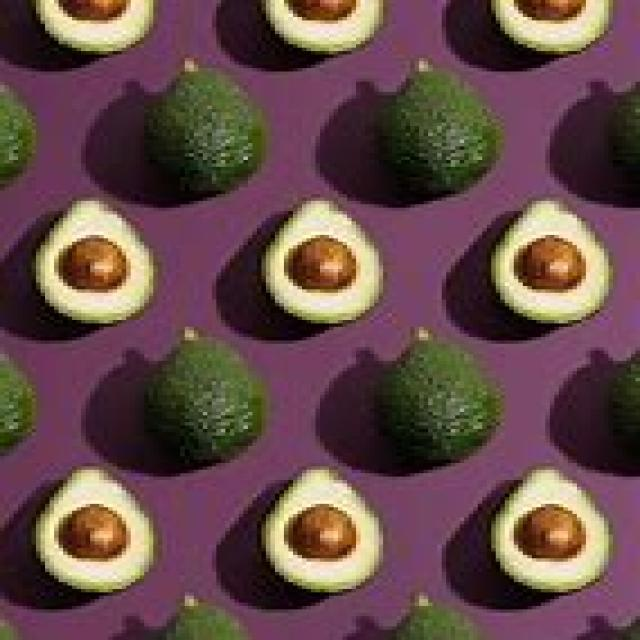avocado: (21, 180, 168, 332), (484, 461, 618, 597), (257, 457, 388, 596), (372, 324, 506, 454), (35, 457, 160, 593), (151, 55, 275, 192), (263, 192, 387, 324), (381, 63, 502, 193), (493, 199, 615, 325), (152, 325, 262, 449)
